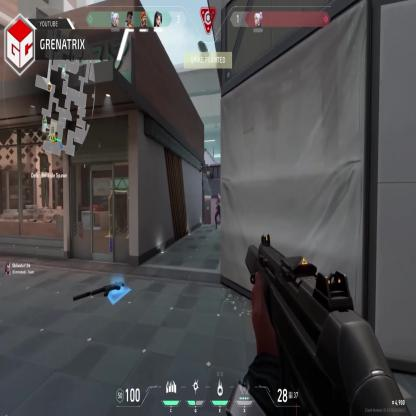enemy: (214, 194, 223, 228)
enemy_head: (218, 194, 221, 201)
